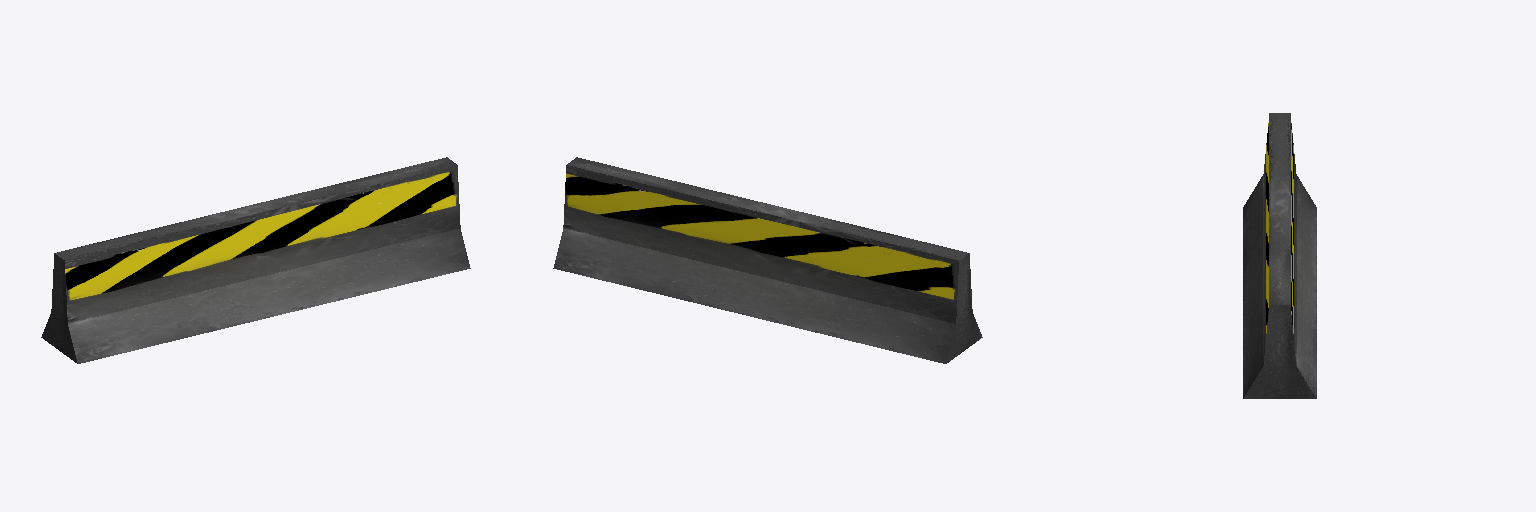
3 views of the same model, side by side, from view 1: azimuth 30°, elevation 25°; view 2: azimuth 150°, elevation 25°; view 3: azimuth 270°, elevation 25° (orthographic).
Visible parts, largest first — view 1: Cube_Cube.004; view 2: Cube_Cube.004; view 3: Cube_Cube.004.
Part boxes in pixels (bbox=[...]): Cube_Cube.004: bbox=[41, 157, 470, 363]; Cube_Cube.004: bbox=[553, 157, 982, 363]; Cube_Cube.004: bbox=[1243, 113, 1316, 398].
Size of the model in its own units: 2.24 by 0.5134 by 0.3626.
Materials: 1 (1 with a texture image).